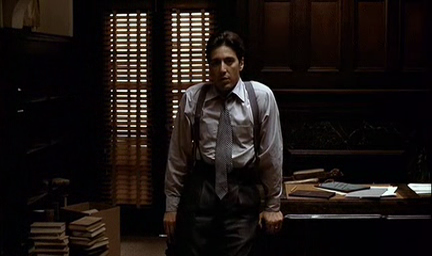face: (210, 45, 240, 93)
mls: (1, 1, 432, 256)
person: (161, 31, 283, 256)
